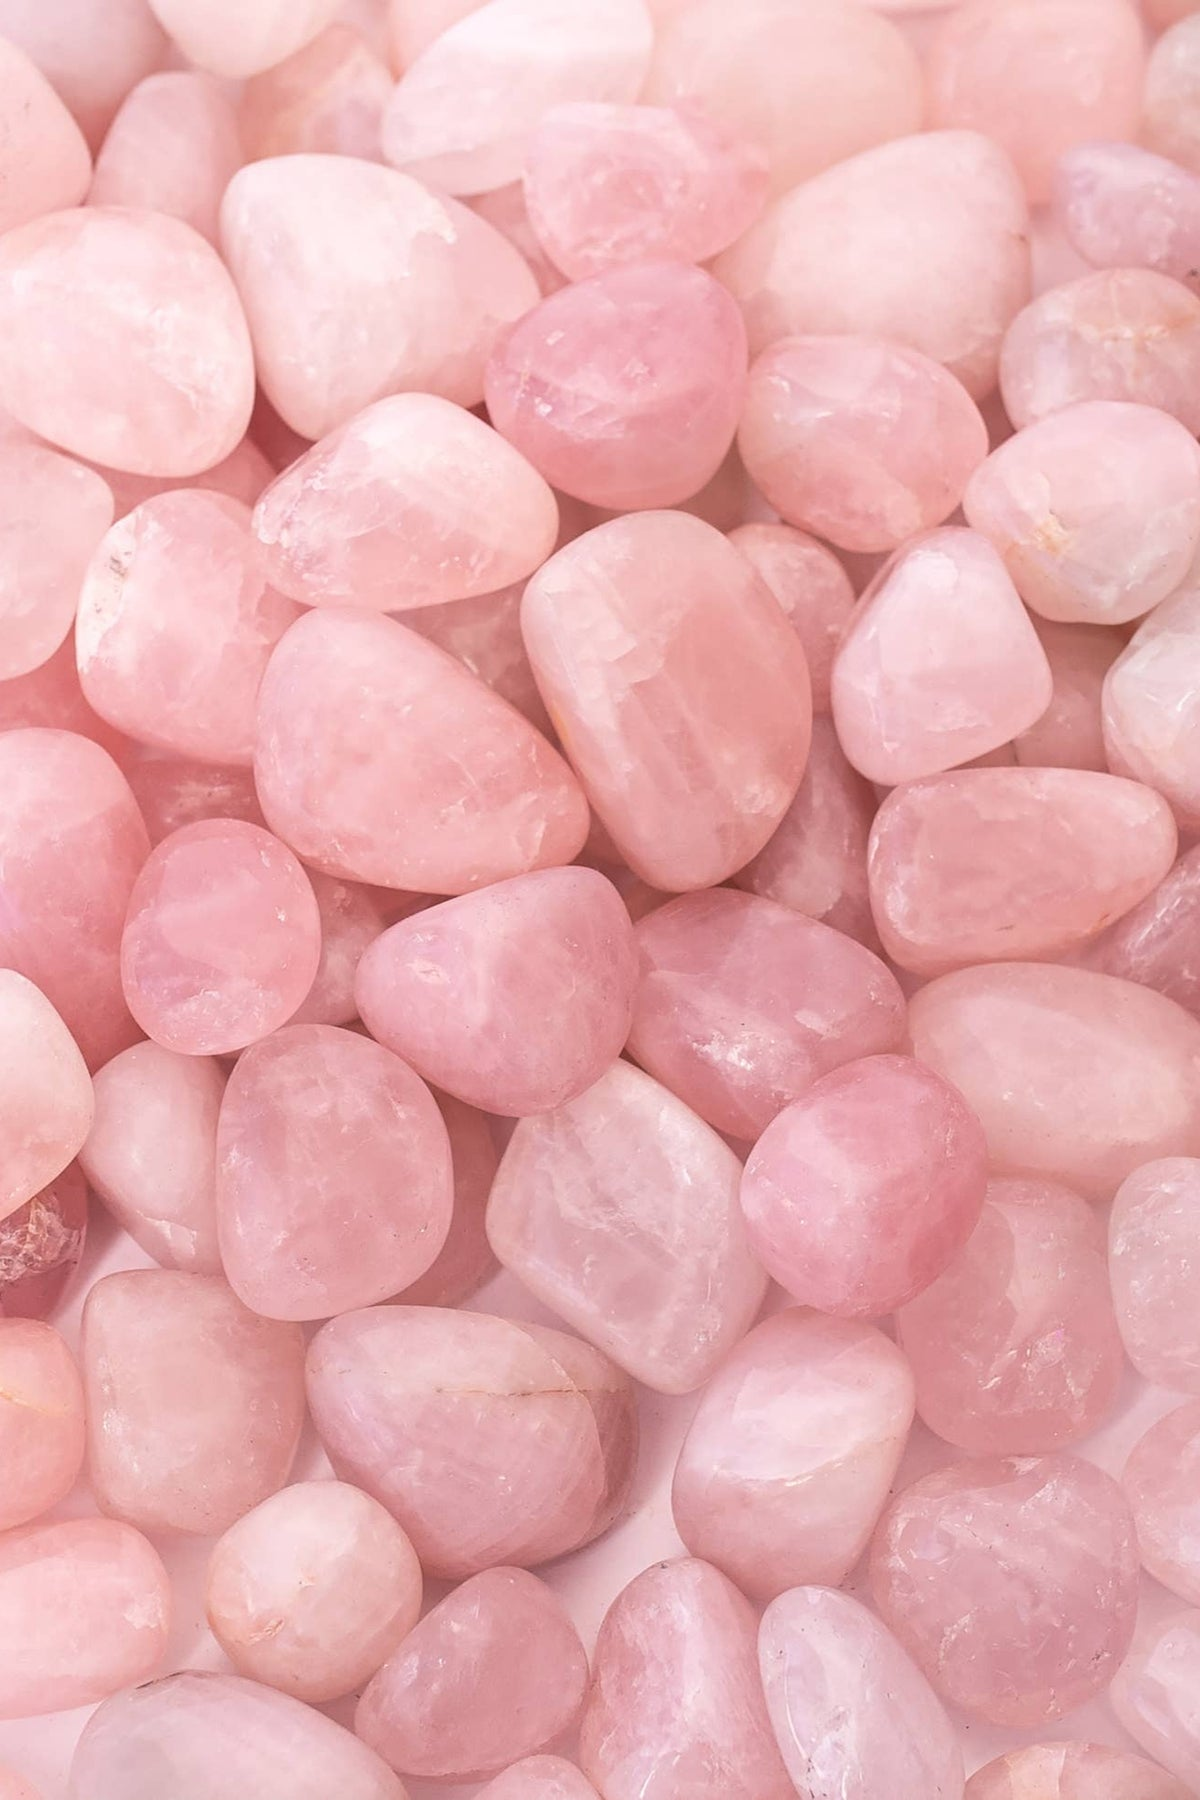Rose_Quartz: (12, 17, 1196, 1785)
